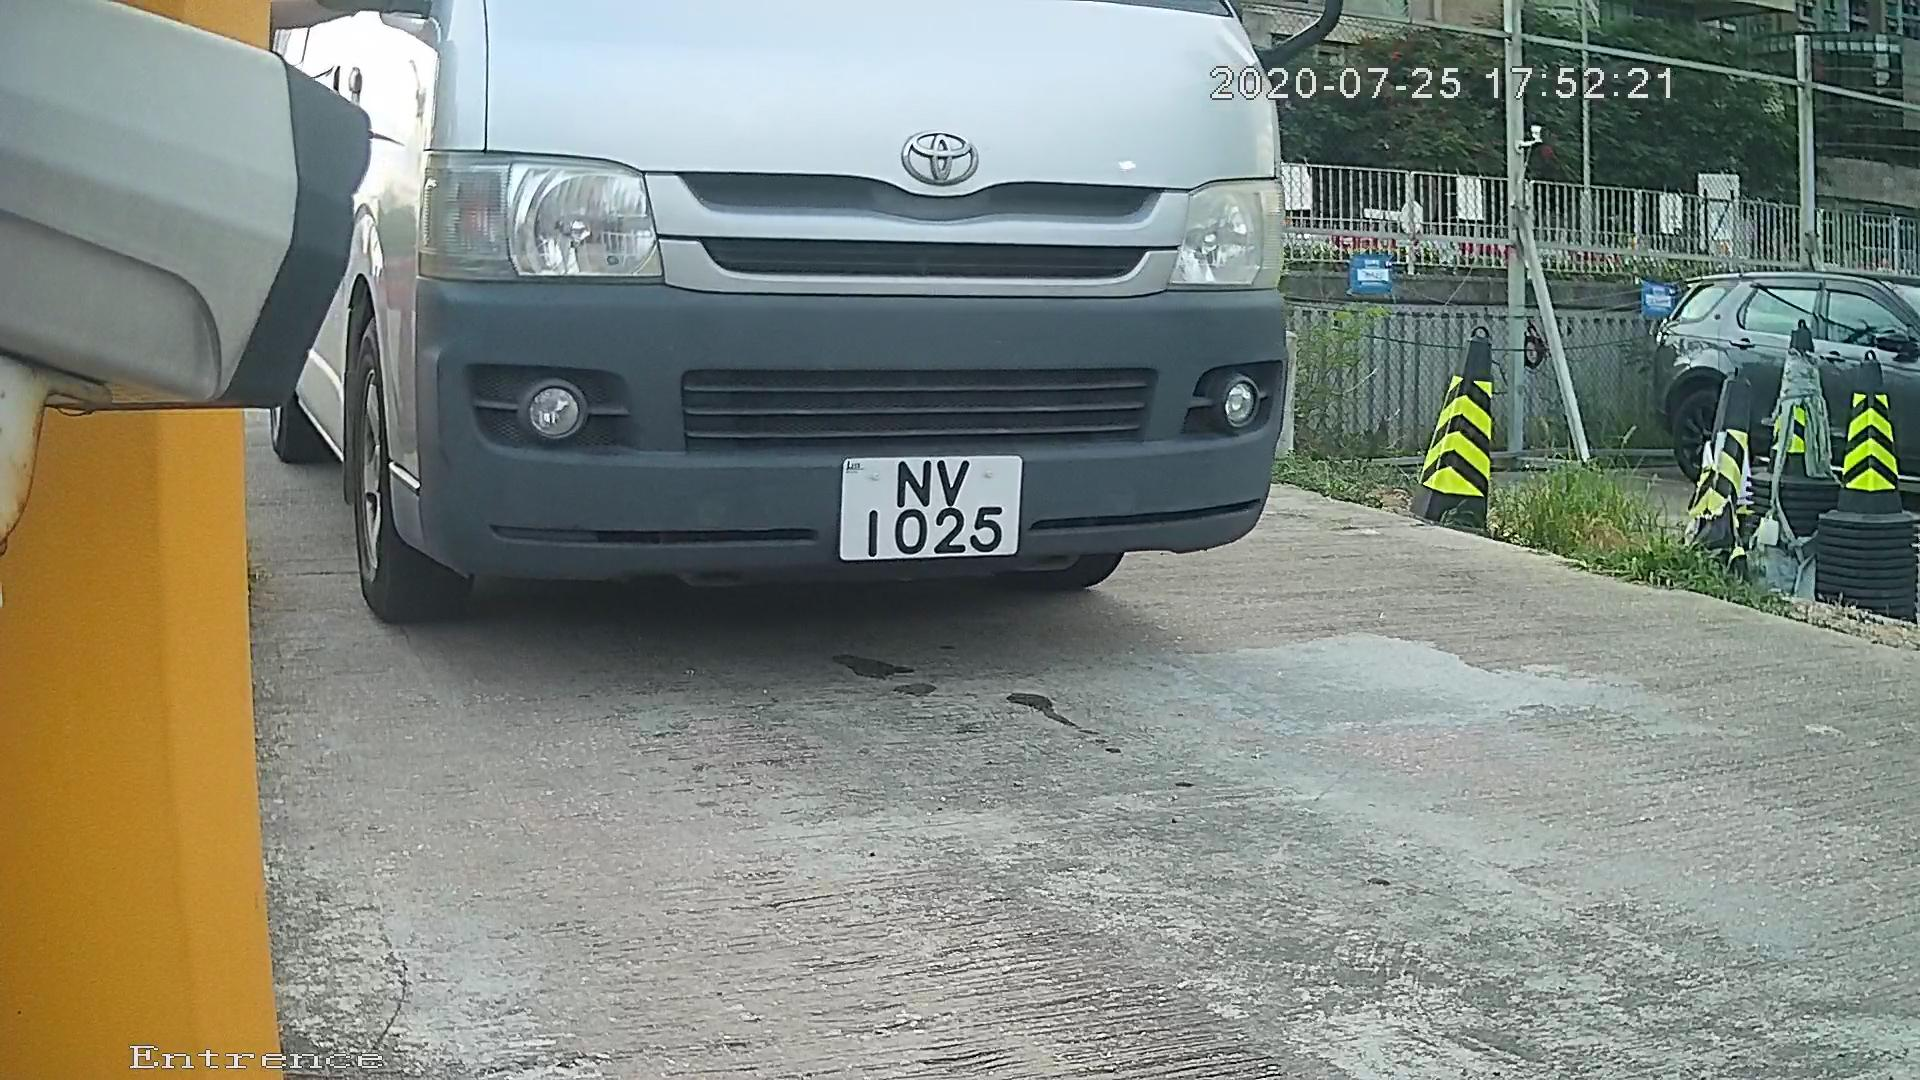Car: (112, 5, 1441, 685)
License Plate: (823, 449, 1046, 569)
